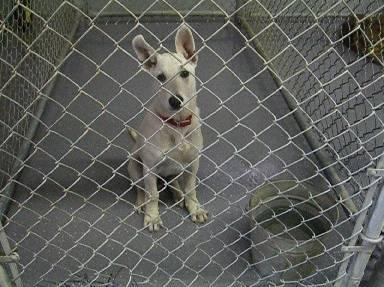dog: (128, 23, 207, 230)
